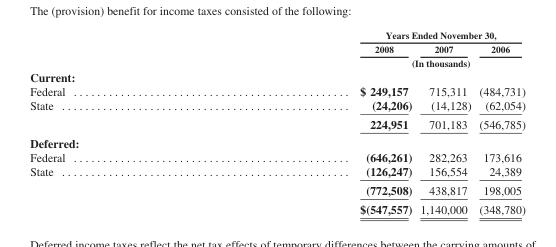table: (29, 29, 524, 215)
table column: (211, 29, 415, 215), (29, 29, 211, 215), (415, 29, 474, 215), (474, 29, 524, 215)
table column header: (29, 29, 524, 69)
table projected row header: (29, 133, 524, 149), (29, 69, 524, 83)
table row: (29, 114, 524, 133), (29, 180, 524, 199), (29, 97, 524, 114), (29, 163, 524, 180), (29, 133, 524, 149), (29, 199, 524, 215), (29, 41, 524, 55), (29, 55, 524, 69), (29, 69, 524, 83), (29, 83, 524, 97), (29, 149, 524, 163), (29, 29, 524, 41)
table spanning cell: (211, 55, 524, 69), (211, 29, 524, 41)
